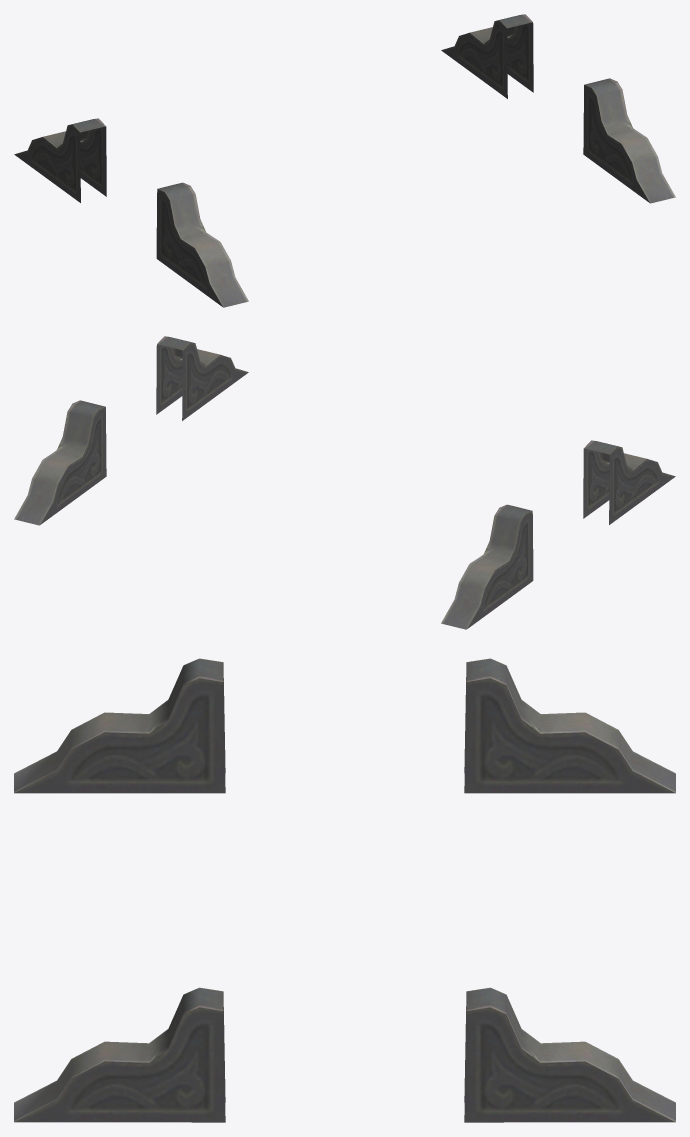
The model's file is bujian_09.fbx.
3 renders of one model, top to bottom at view 1: azimuth 30°, elevation 25°; view 2: azimuth 150°, elevation 25°; view 3: azimuth 270°, elevation 25°, orthographic. The views are drawn at different scales.
Parts seen in each view (by area): view 1: NEW_QHXD:polySurface26; view 2: NEW_QHXD:polySurface26; view 3: NEW_QHXD:polySurface26.
Boxes of the visible parts, x1,y1,x2,y2 form: NEW_QHXD:polySurface26: (14,14,675,307); NEW_QHXD:polySurface26: (14,336,675,629); NEW_QHXD:polySurface26: (14,658,675,1122).
Size of the model in its own units: 4.3 by 0.6608 by 3.45.
